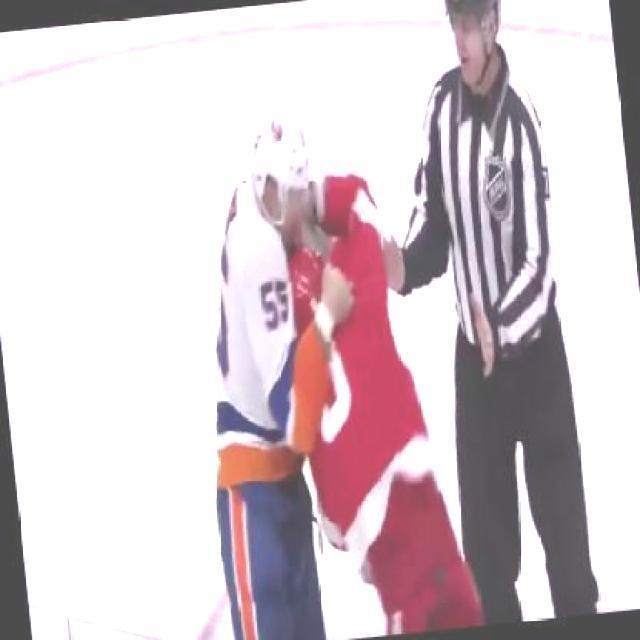fight: (172, 101, 430, 638)
